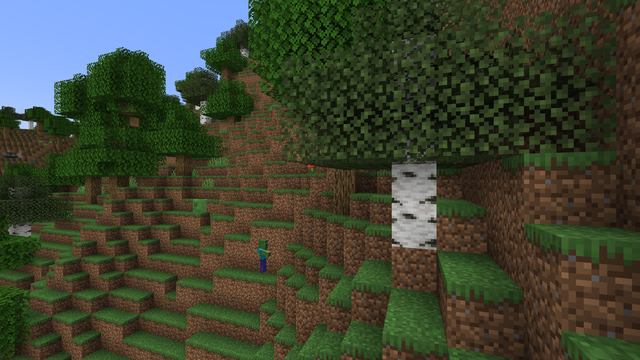slimes: (190, 198, 209, 212)
zombies: (257, 239, 268, 274)
